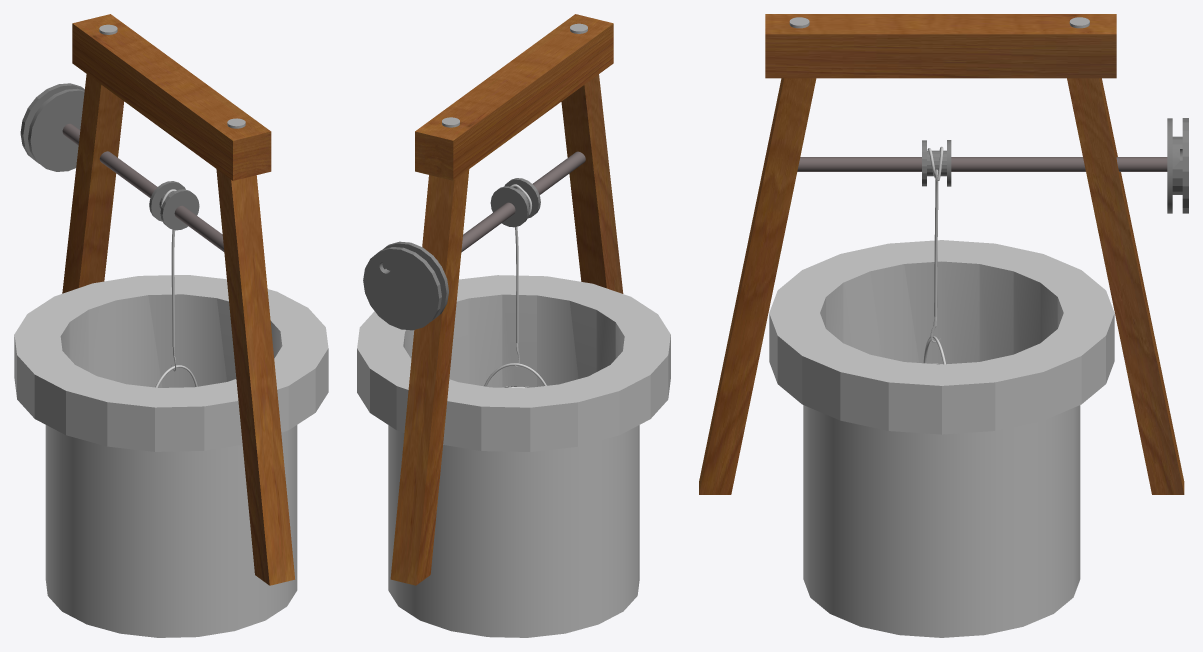
Rendered from Puit.fbx.
3 renders of one model, left to right at view 1: azimuth 30°, elevation 25°; view 2: azimuth 150°, elevation 25°; view 3: azimuth 270°, elevation 25°, orthographic. The views are drawn at different scales.
Parts seen in each view (by area): view 1: puit, pilier1, toit, pilier, polySurface1, boisPoursceau, pCylinder11; view 2: puit, pilier, toit, pilier1, polySurface1, boisPoursceau, pCylinder11; view 3: puit, toit, pilier1, pilier, boisPoursceau, polySurface1, pCylinder11.
Boxes of the visible parts, x1,y1,x2,y2 form: puit: (14, 275, 328, 637); pilier1: (216, 169, 295, 585); toit: (72, 14, 271, 180); pilier: (62, 74, 124, 293); polySurface1: (20, 83, 84, 171); boisPoursceau: (62, 123, 224, 251); pCylinder11: (149, 181, 199, 230); puit: (357, 275, 670, 637); pilier: (390, 169, 469, 585); toit: (415, 14, 613, 180); pilier1: (561, 74, 623, 293); polySurface1: (363, 241, 448, 330); boisPoursceau: (436, 151, 585, 261); pCylinder11: (490, 178, 540, 227); puit: (769, 240, 1114, 637); toit: (765, 14, 1116, 78); pilier1: (699, 78, 816, 494); pilier: (1067, 78, 1184, 494); boisPoursceau: (797, 157, 1167, 171); polySurface1: (1167, 118, 1188, 213); pCylinder11: (922, 140, 951, 186).
Bounding box in the file's own units: 4.49 × 8.01 × 6.37.
